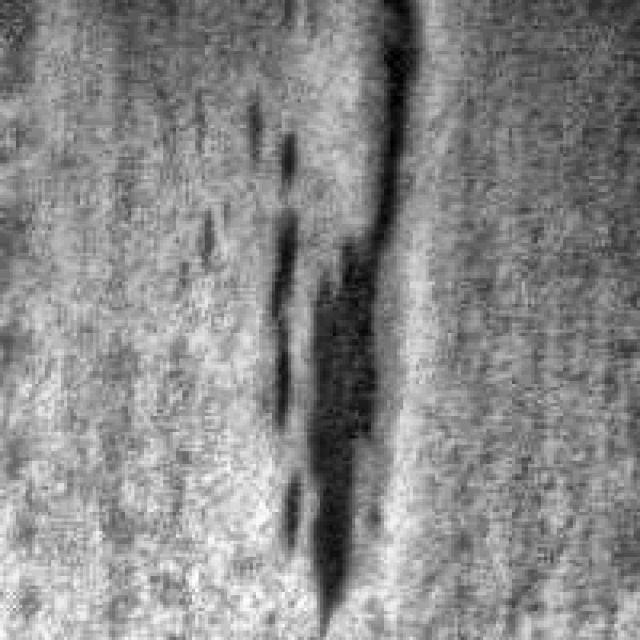Patches: (243, 48, 410, 634)
